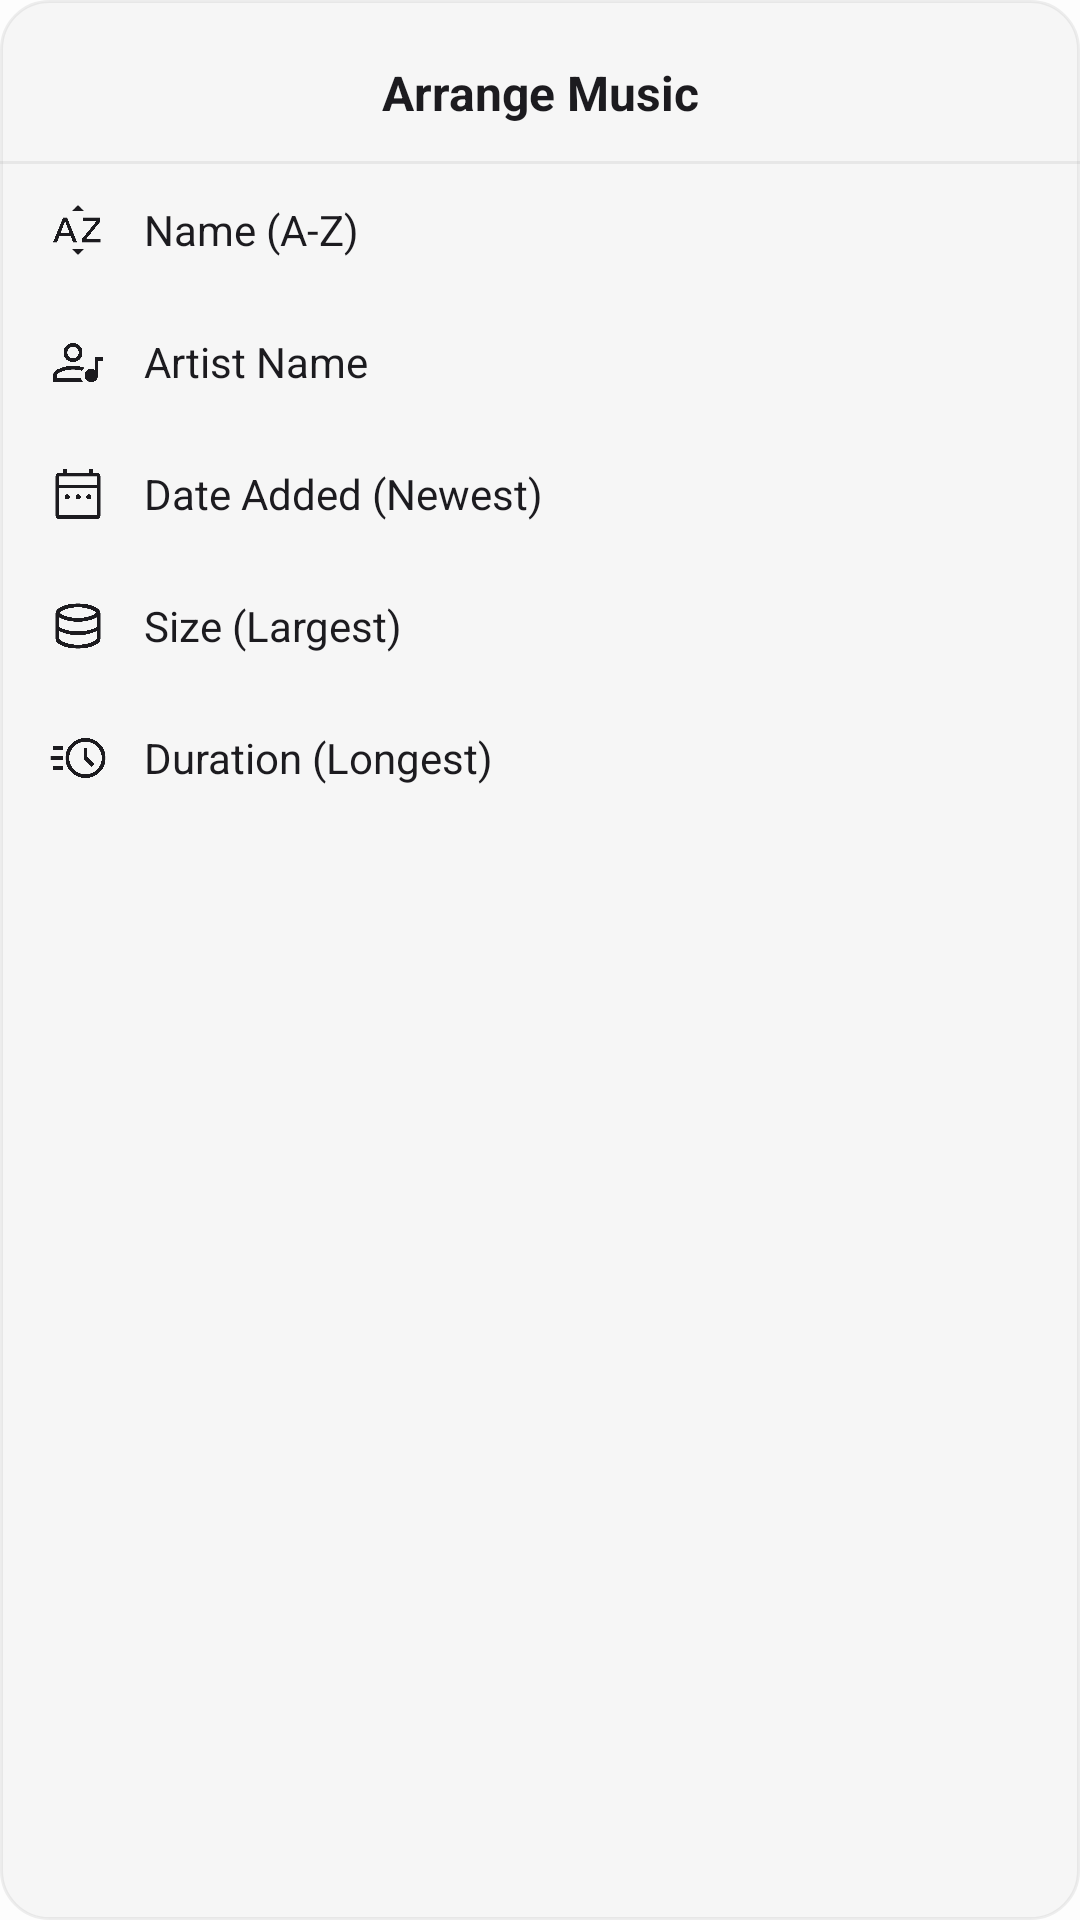

Where icons sit on this 1080x1920 app screen, as (x1, y1, x2, y2):
storage: (55, 603, 101, 649)
time: (50, 738, 106, 778)
